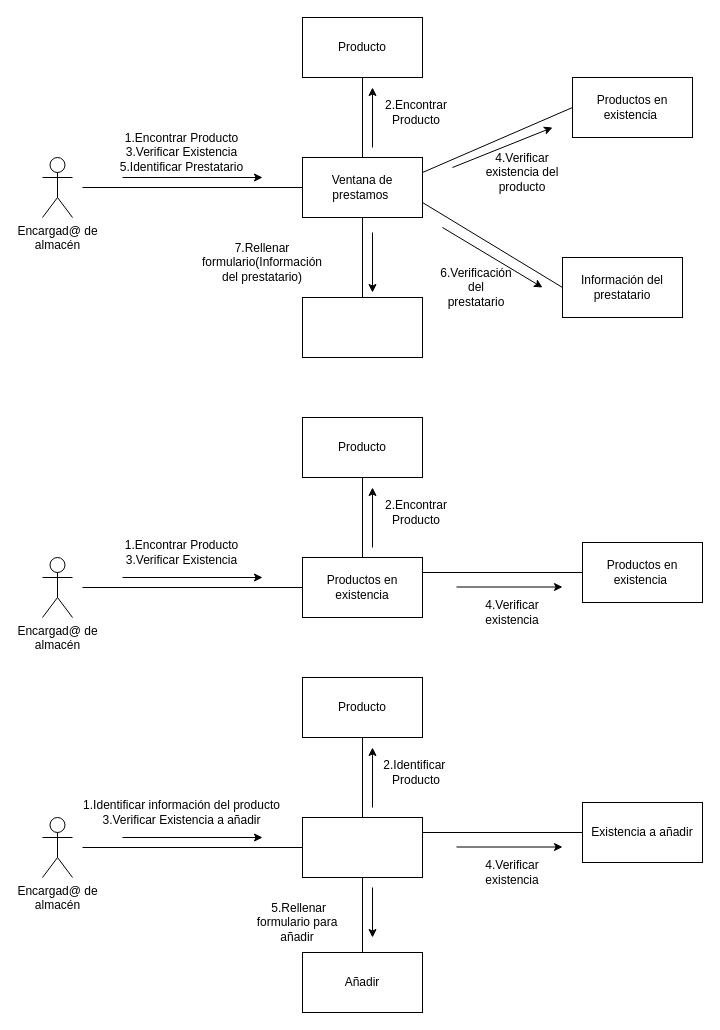
Image size: 720x1030. Some labels were removed from this diagram. Each missing label, with the centre of its shape:
Añadir productos: point 362,847
Préstamo: point 362,327
